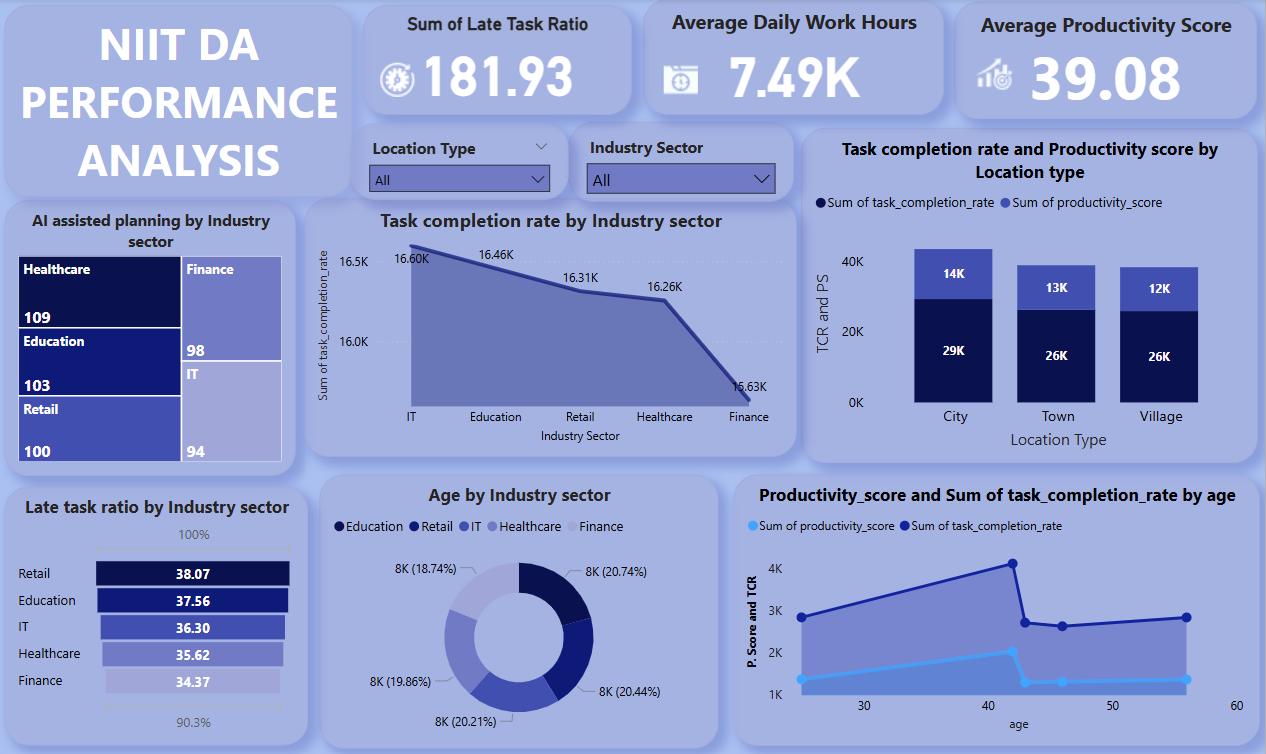

What the dashboard file says about the page in this screenshot:
{"tool":"powerbi","page":{"name":"Page 1","canvas":[1287,774],"ordinal":0},"visuals":[{"type":"treemap","title":"AI assisted planning by Industry sector","fields":{"Values":["Sum(remote_worker_productivity_1000.AI_assisted_planning)"],"Group":["remote_worker_productivity_1000.industry_sector"]},"box":[7.9,203.9,295.6,279.8],"z":0},{"type":"donutChart","title":"Age by Industry sector","fields":{"Category":["remote_worker_productivity_1000.industry_sector"],"Y":["Sum(remote_worker_productivity_1000.age)"]},"box":[327.2,482.2,404.7,278.2],"z":1000},{"type":"columnChart","title":"Task completion rate and Productivity score by Location type","fields":{"Category":["remote_worker_productivity_1000.location_type"],"Y":["Sum(remote_worker_productivity_1000.task_completion_rate)","Sum(remote_worker_productivity_1000.productivity_score)"]},"box":[815.7,131.2,463.2,339.9],"z":2000},{"type":"areaChart","title":"Productivity_score and Sum of task_completion_rate by age","fields":{"Category":["remote_worker_productivity_1000.age"],"Y":["Sum(remote_worker_productivity_1000.productivity_score)","Sum(remote_worker_productivity_1000.task_completion_rate)"]},"box":[747.7,482.2,534.3,275.1],"z":3000},{"type":"funnel","title":"Late task ratio by Industry sector","fields":{"Category":["remote_worker_productivity_1000.industry_sector"],"Y":["Sum(remote_worker_productivity_1000.late_task_ratio)"]},"box":[7.9,494.8,308.3,262.4],"z":4000},{"type":"card","title":"Average Productivity Score","fields":{"Values":["Avg(remote_worker_productivity_1000.productivity_score)"]},"box":[971.3,3,307.5,118.8],"z":5000},{"type":"areaChart","title":"Task completion rate by Industry sector","fields":{"Y":["Sum(remote_worker_productivity_1000.task_completion_rate)"],"Category":["remote_worker_productivity_1000.industry_sector"]},"box":[311.4,203.2,499.3,262],"z":6000},{"type":"slicer","fields":{"Values":["remote_worker_productivity_1000.industry_sector"]},"box":[580.1,124.8,228.4,80.7],"z":7000},{"type":"card","title":"Average Daily Work Hours","fields":{"Values":["Sum(remote_worker_productivity_1000.average_daily_work_hours)"]},"box":[656.2,0,304.5,117.2],"z":8000},{"type":"textbox","title":"NIIT DA PERFORMANCE ANALYSIS","box":[7.9,6.3,352.5,194.4],"z":9000},{"type":"card","title":"Sum of Late Task Ratio","fields":{"Values":["Sum(remote_worker_productivity_1000.late_task_ratio)"]},"box":[371.5,6.1,272.5,111.1],"z":10000},{"type":"slicer","fields":{"Values":["remote_worker_productivity_1000.location_type"]},"box":[359.3,126.4,220.8,77.6],"z":11000},{"type":"image","box":[383.3,59.3,44.9,44.9],"z":12000},{"type":"image","box":[987.8,46.5,48.1,57.7],"z":13000},{"type":"image","box":[671.9,59.3,44.9,44.9],"z":14000}]}

Visuals, with their boxes in screenshot pixels (x1, y1, x2, y2), scaled from the page's 1287x774 canvas onto the 1266x754 screenshot:
"AI assisted planning by Industry sector" treemap: bbox(8, 199, 299, 471)
"Age by Industry sector" donutChart: bbox(322, 470, 720, 741)
"Task completion rate and Productivity score by Location type" columnChart: bbox(802, 128, 1258, 459)
"Productivity_score and Sum of task_completion_rate by age" areaChart: bbox(735, 470, 1261, 738)
"Late task ratio by Industry sector" funnel: bbox(8, 482, 311, 738)
"Average Productivity Score" card: bbox(955, 3, 1258, 119)
"Task completion rate by Industry sector" areaChart: bbox(306, 198, 797, 453)
slicer - remote_worker_productivity_1000.industry_sector: bbox(571, 122, 795, 200)
"Average Daily Work Hours" card: bbox(645, 0, 945, 114)
"NIIT DA PERFORMANCE ANALYSIS" textbox: bbox(8, 6, 355, 196)
"Sum of Late Task Ratio" card: bbox(365, 6, 633, 114)
slicer - remote_worker_productivity_1000.location_type: bbox(353, 123, 571, 199)
image: bbox(377, 58, 421, 102)
image: bbox(972, 45, 1019, 102)
image: bbox(661, 58, 705, 102)
